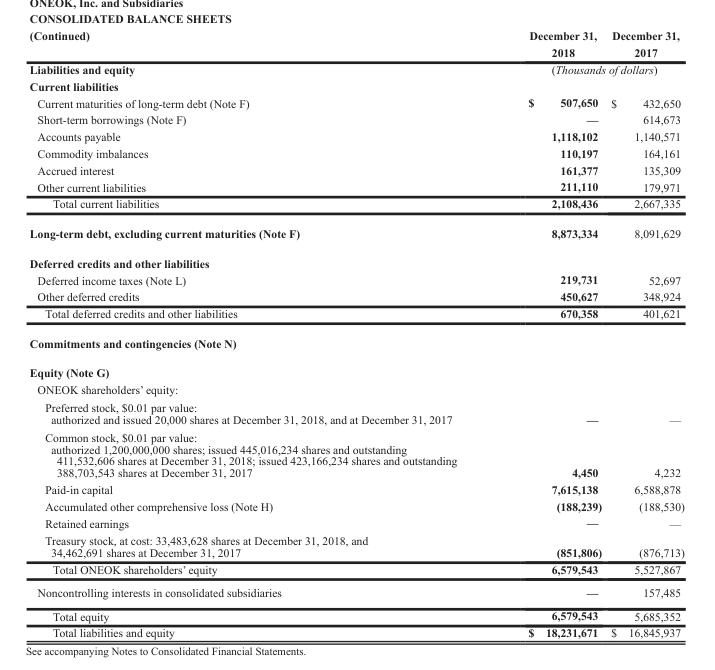table: (28, 28, 683, 638)
table column: (28, 28, 491, 638), (491, 28, 605, 638), (605, 28, 683, 638)
table column header: (28, 28, 683, 60)
table projected row header: (28, 328, 683, 357), (28, 247, 683, 271), (28, 357, 683, 381), (28, 77, 683, 94), (28, 381, 683, 398)
table row: (28, 428, 683, 480), (28, 28, 683, 60), (28, 398, 683, 428), (28, 218, 683, 247), (28, 328, 683, 357), (28, 531, 683, 560), (28, 247, 683, 271), (28, 304, 683, 328), (28, 357, 683, 381), (28, 195, 683, 218), (28, 580, 683, 603), (28, 560, 683, 580), (28, 603, 683, 623), (28, 60, 683, 77), (28, 77, 683, 94), (28, 94, 683, 111), (28, 127, 683, 144), (28, 144, 683, 161), (28, 161, 683, 178), (28, 178, 683, 195), (28, 271, 683, 288), (28, 381, 683, 398), (28, 480, 683, 497), (28, 497, 683, 514), (28, 514, 683, 531), (28, 111, 683, 127), (28, 288, 683, 304), (28, 623, 683, 638)
table spanning cell: (491, 60, 683, 77)
